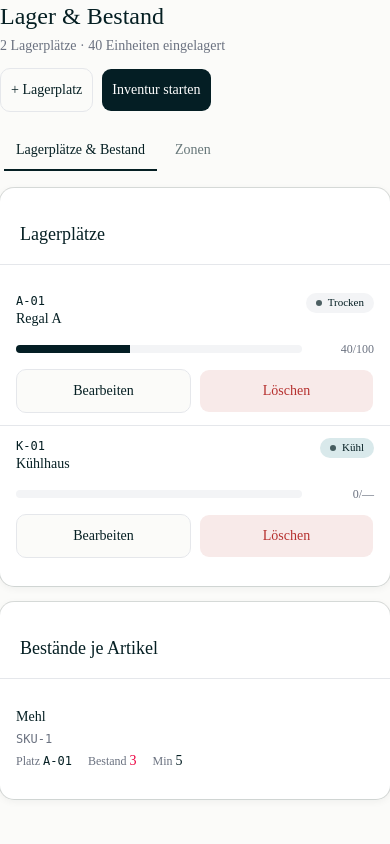
Test: StockView: Karten statt Tabelle (T17d) › Karten-Bearbeiten lädt den Lagerplatz in den Dialog
The width and height of the screenshot is (390, 844).
Click the button "Bearbeiten" below "Regal A".
click(104, 391)  # box x1=16 y1=369 x2=191 y2=413
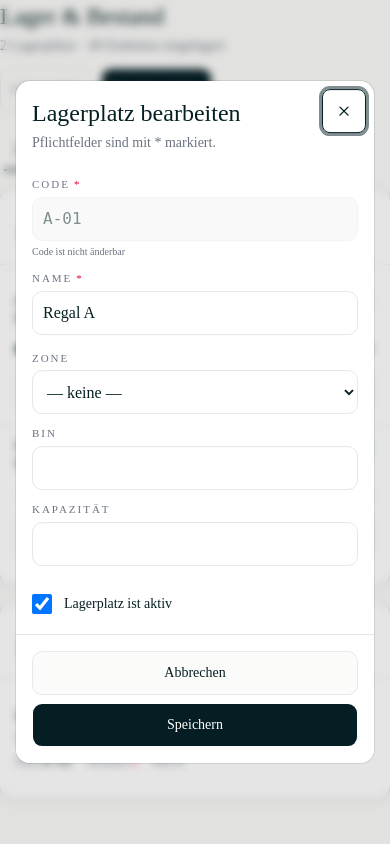
Expected: the heading "Lagerplatz bearbeiten" is shown, x1=32 y1=100 x2=240 y2=126
